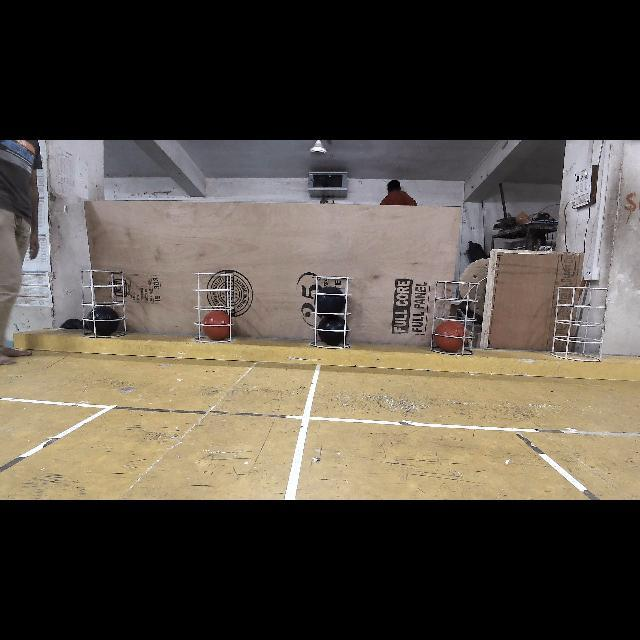P: (86, 307, 122, 337), (318, 316, 350, 346), (316, 286, 346, 314)
R: (436, 321, 468, 355), (202, 311, 234, 339)
S: (548, 278, 608, 358), (424, 275, 480, 357), (76, 267, 132, 341), (190, 269, 238, 349), (307, 274, 353, 348)
